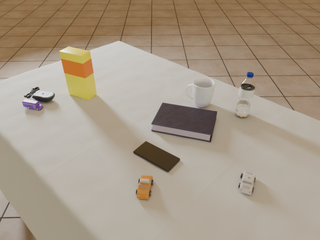book: (151, 103, 217, 142)
bottle: (235, 72, 255, 117)
box: (60, 47, 97, 100)
cup: (186, 78, 215, 107)
mouse: (24, 87, 55, 102)
phone: (133, 141, 180, 172)
toy_car: (238, 171, 256, 195), (136, 175, 153, 199), (22, 99, 43, 110)
